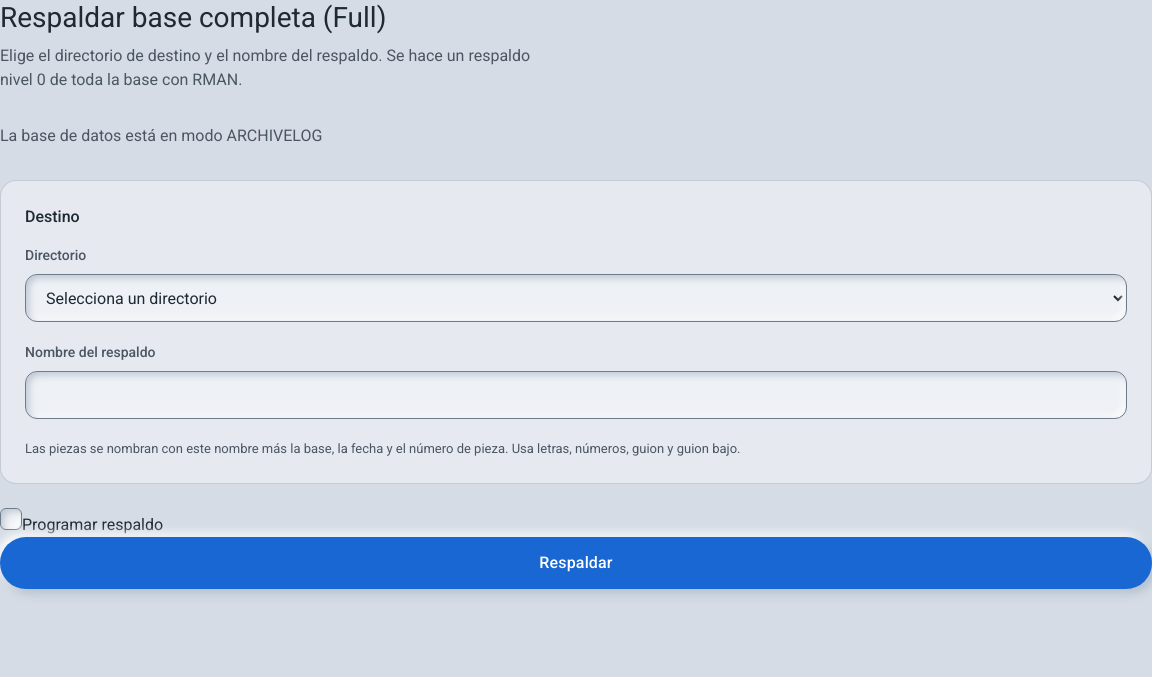
Test: pantalla de respaldo Full › al terminar informa el éxito con el log de RMAN y sin advertencia
Select "RESPALDO (/opt/oracle/Respaldos)" in the dropdown labelled "Directorio" at (576,298), box [25,274,1127,322]
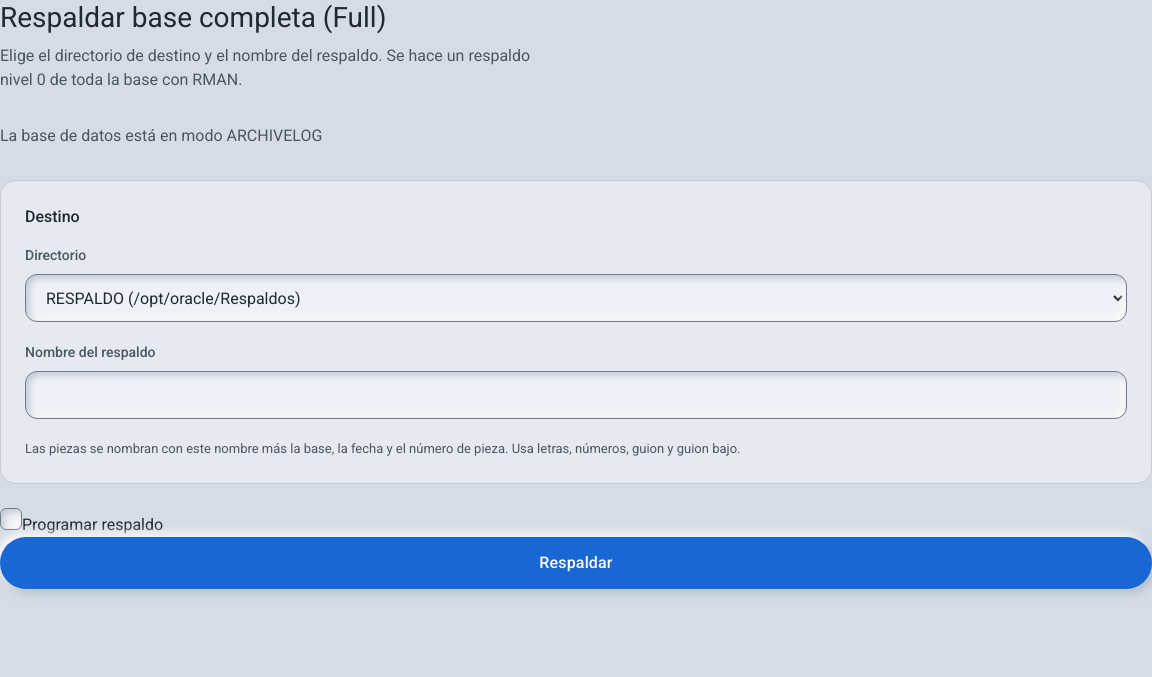
Type "semanal" into the field labelled "Nombre del respaldo" at (576,395), box [25,371,1127,419]
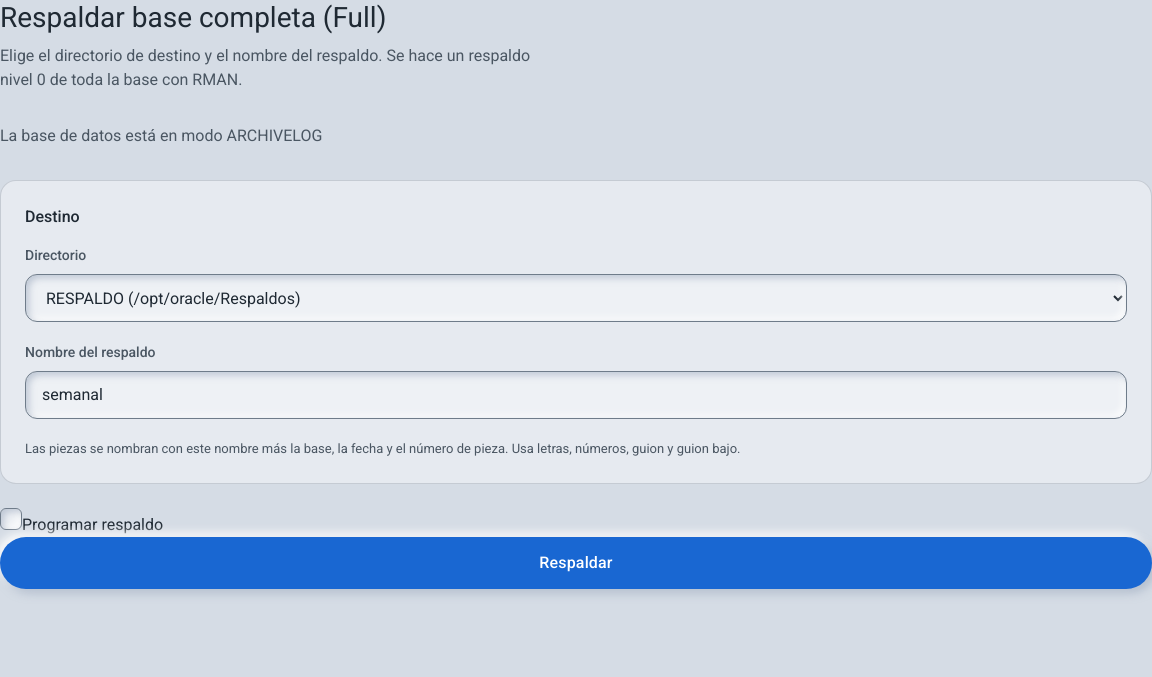
Click the button "Respaldar" at (576,562), box [0,536,1151,588]
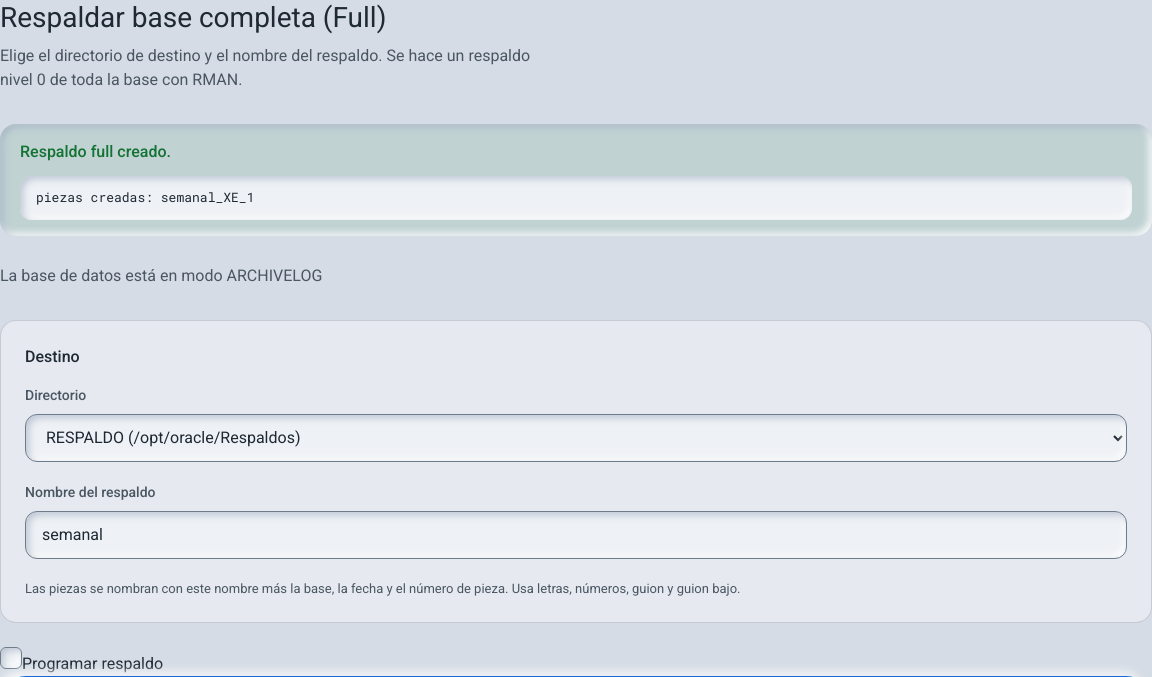
Expected: the message shows "Respaldo full creado", [20,142,171,161]
Expected: the message shows "piezas creadas: semanal_XE_1", [36,188,254,206]
